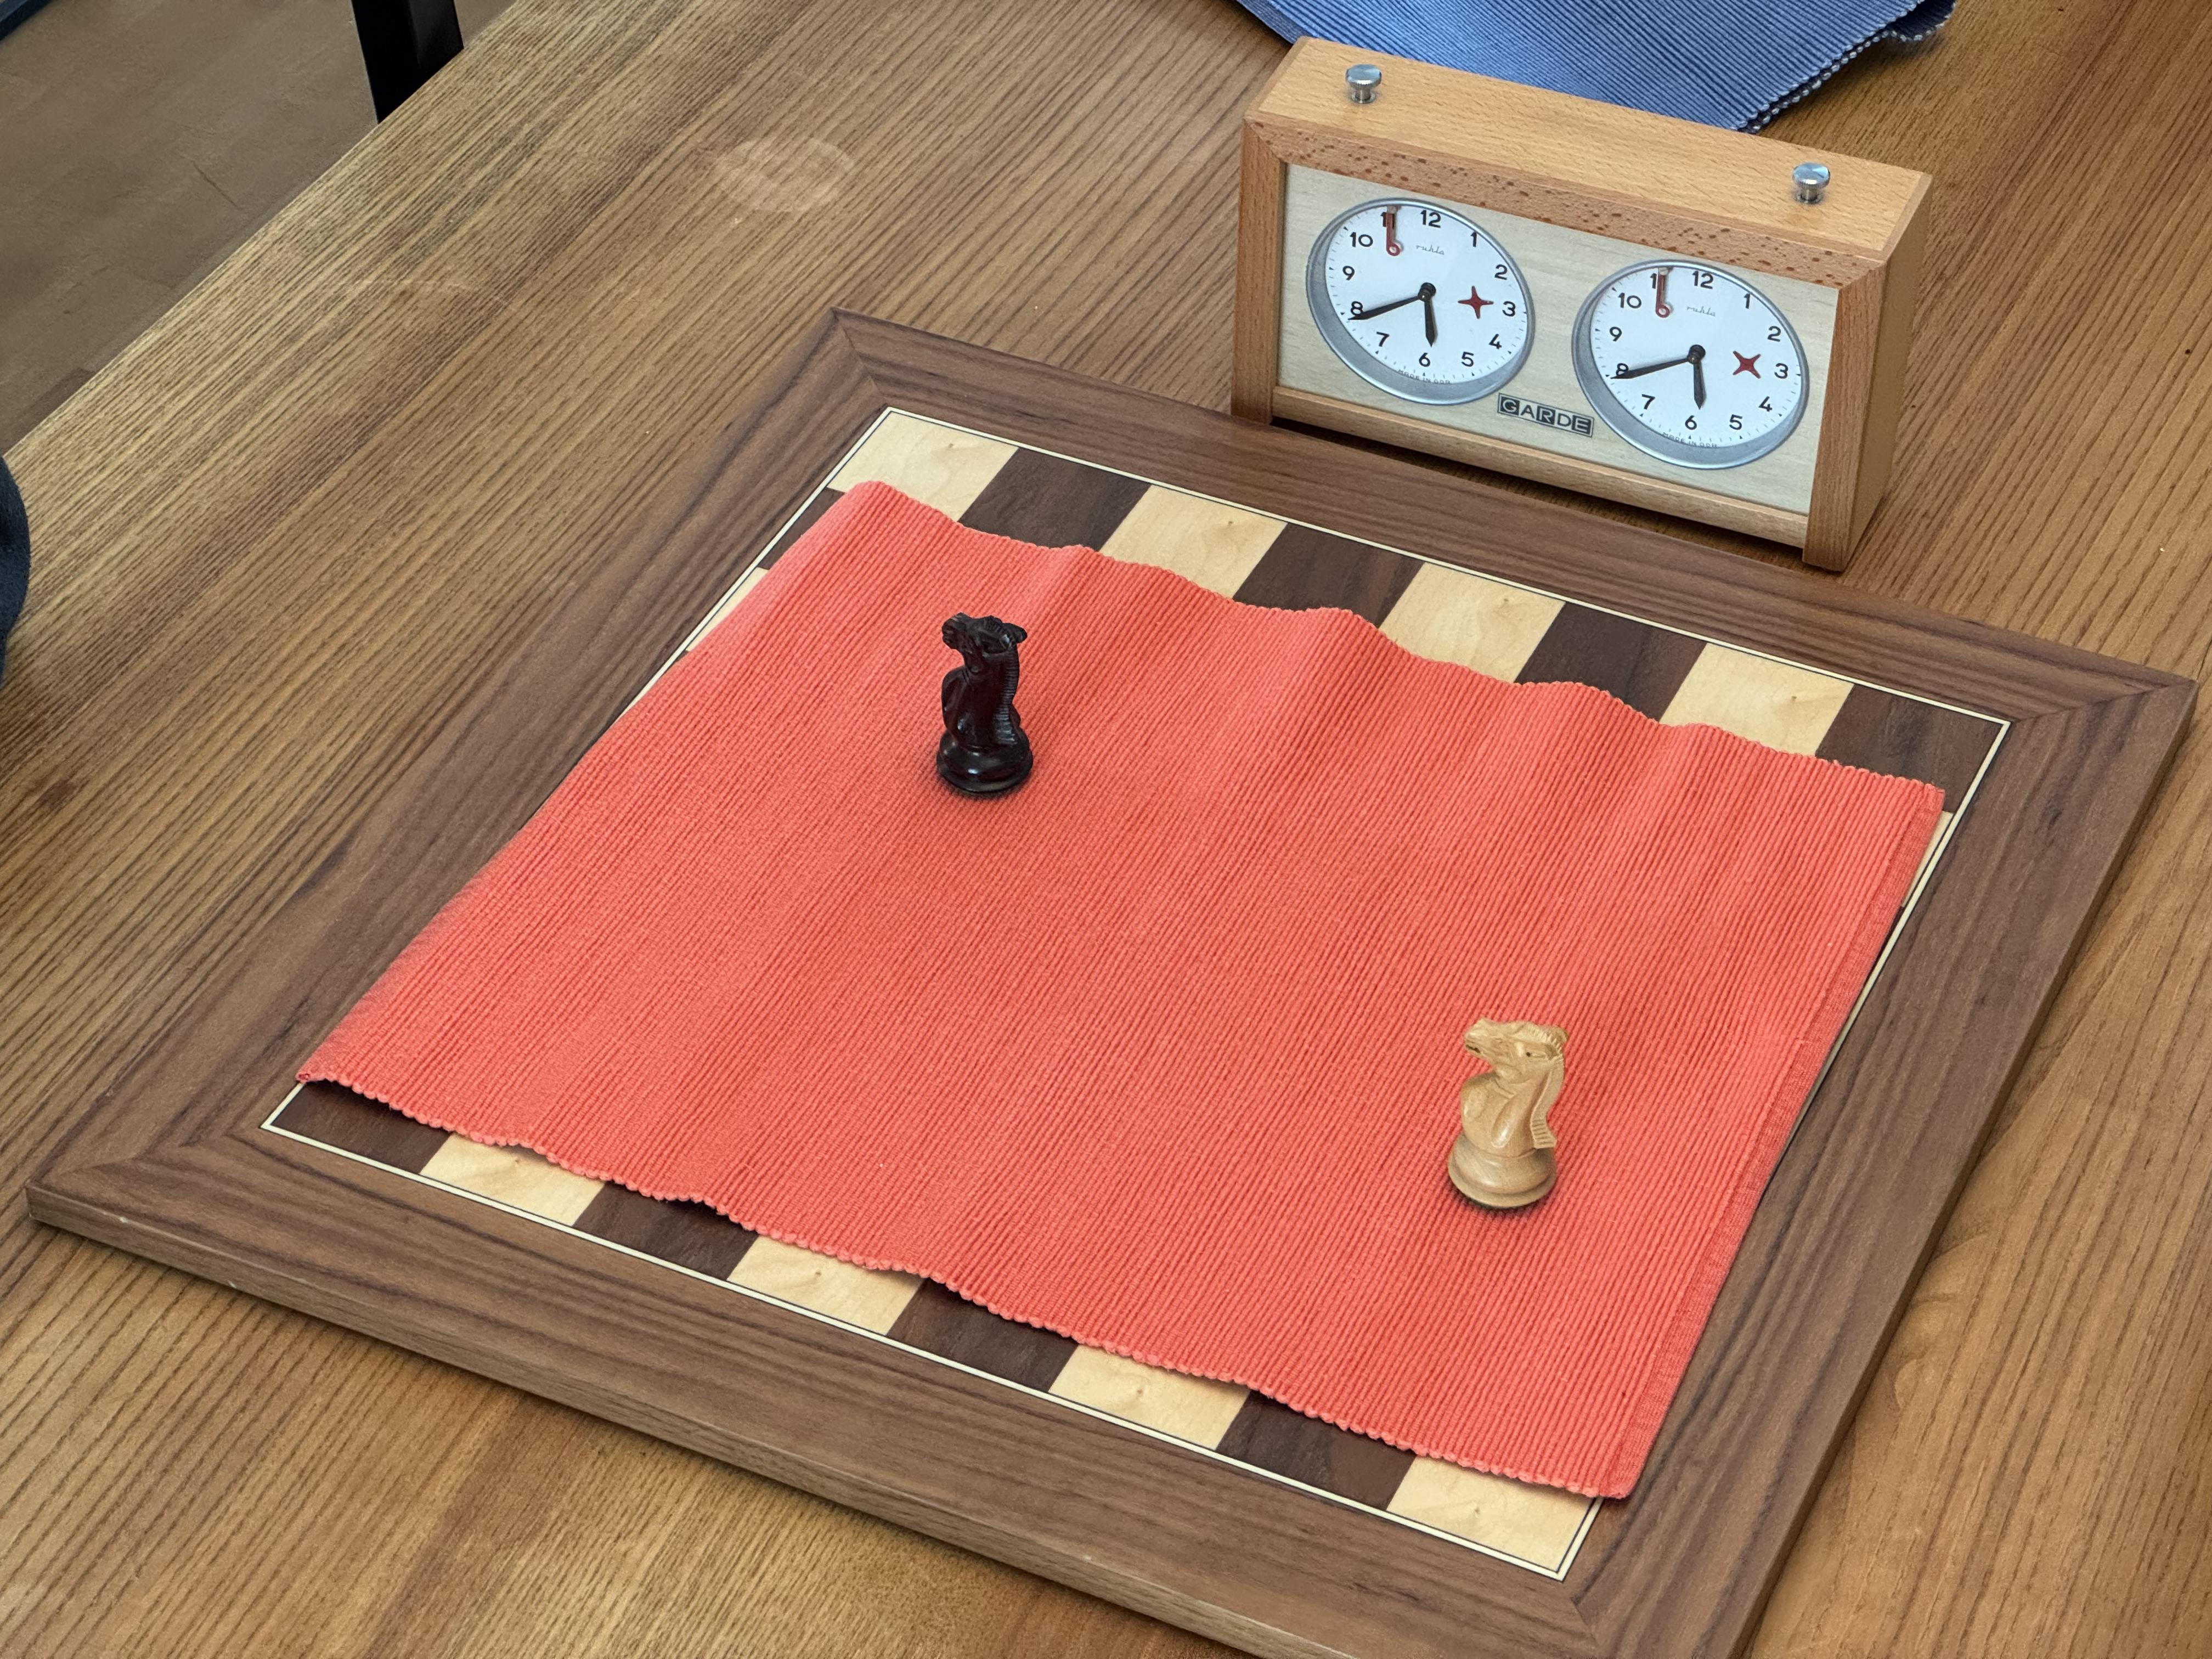Black Knight: (933, 610, 1036, 802)
White Knight: (1443, 1013, 1572, 1217)
